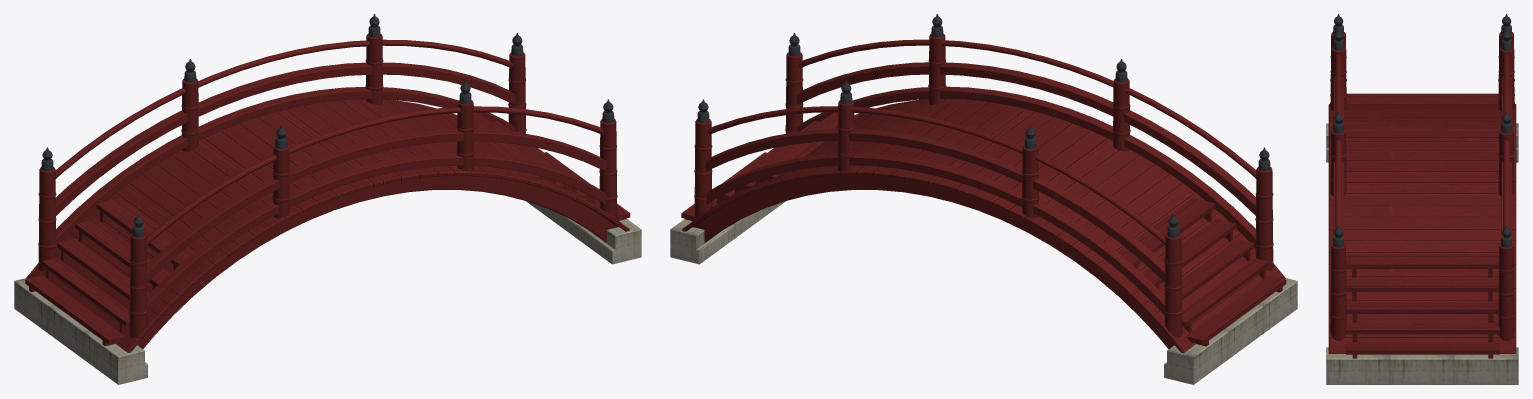
Rendered from Japanese_bridge_red_01.FBX.
The picture shows the model from 3 angles, left to right: view 1: azimuth 30°, elevation 25°; view 2: azimuth 150°, elevation 25°; view 3: azimuth 270°, elevation 25°; orthographic projection. The views are drawn at different scales.
Visible parts, largest first — view 1: Shape002; view 2: Shape002; view 3: Shape002.
Boxes of the visible parts, x1,y1,x2,y2 form: Shape002: (14, 14, 641, 384); Shape002: (670, 14, 1297, 384); Shape002: (1326, 14, 1518, 384).
Size of the model in its own units: 870 by 338 by 300.
